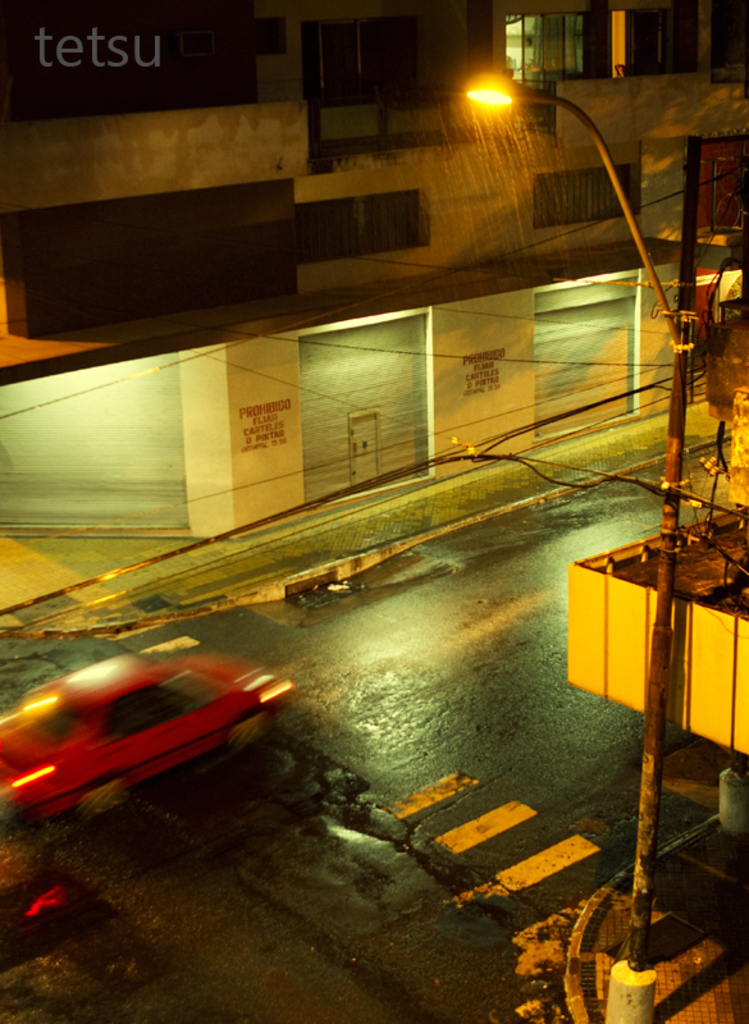Car: (0, 631, 291, 842)
